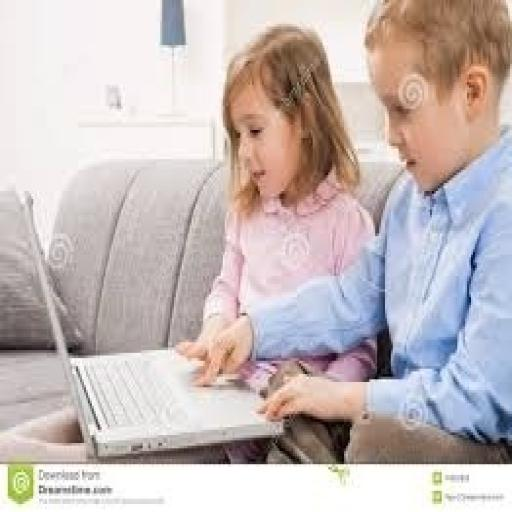using_laptop: (14, 186, 285, 459)
